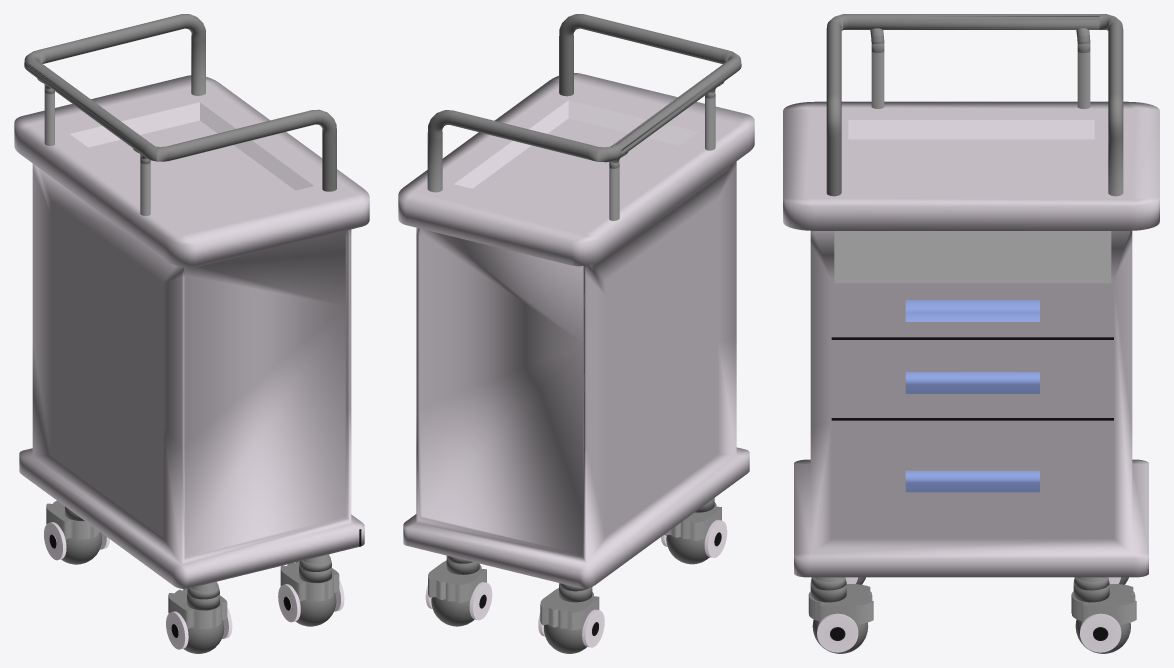
The model's file is Drawerasset.fbx.
3 views of the same model, side by side, from view 1: azimuth 30°, elevation 25°; view 2: azimuth 150°, elevation 25°; view 3: azimuth 270°, elevation 25° (orthographic). The views are drawn at different scales.
Parts seen in each view (by area): view 1: DRAWER; view 2: DRAWER; view 3: DRAWER.
Part boxes in pixels (x1=…): DRAWER: x1=14, y1=14, x2=369, y2=653; DRAWER: x1=398, y1=14, x2=754, y2=653; DRAWER: x1=783, y1=14, x2=1159, y2=653.
Bounding box in the file's own units: 228 × 549 × 338.
